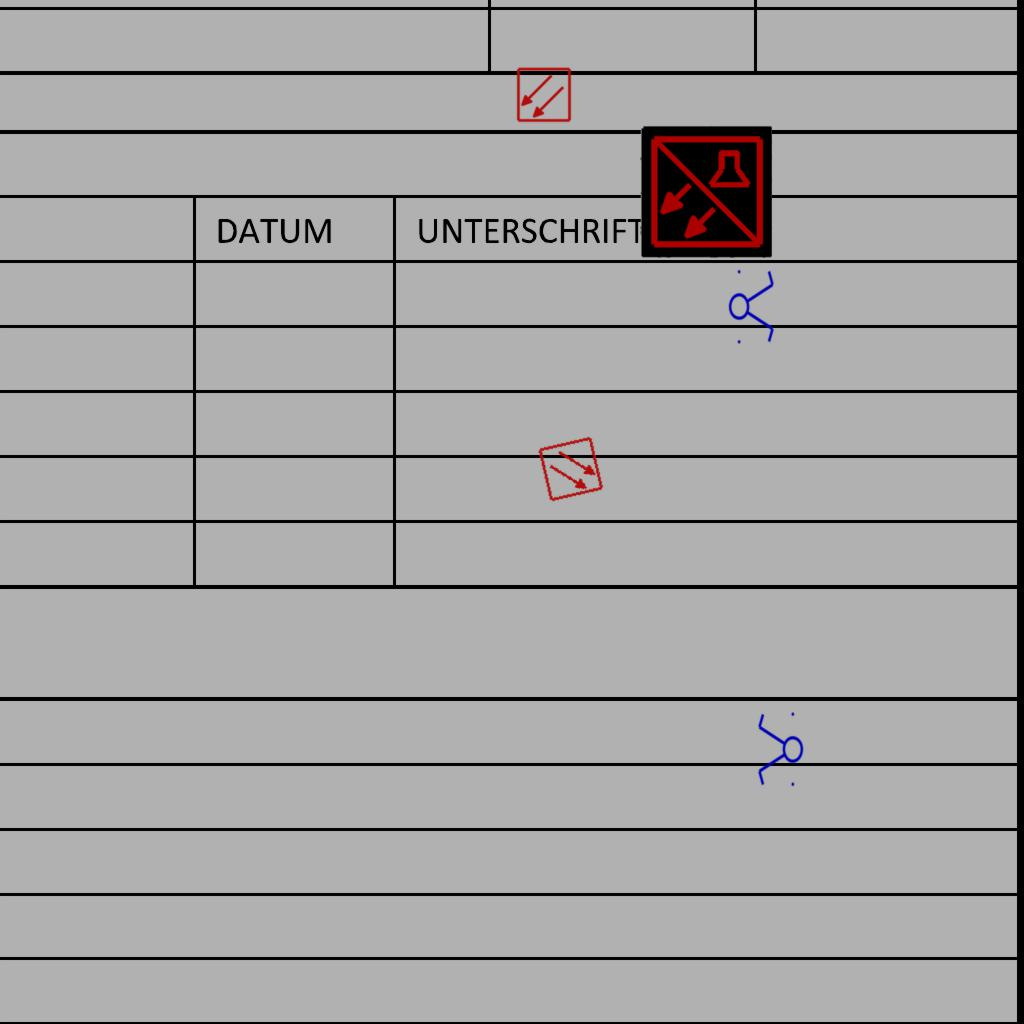OKW_Multisensormelder_(Kombination_optischer_Rauch-Kahlenmonoxid_Waerme-Melder): (640, 126, 772, 258)
RMO_Rauchmelder_optischer: (537, 435, 605, 503), (516, 67, 572, 123)
Serienschalter: (756, 708, 804, 792), (728, 264, 776, 348)
